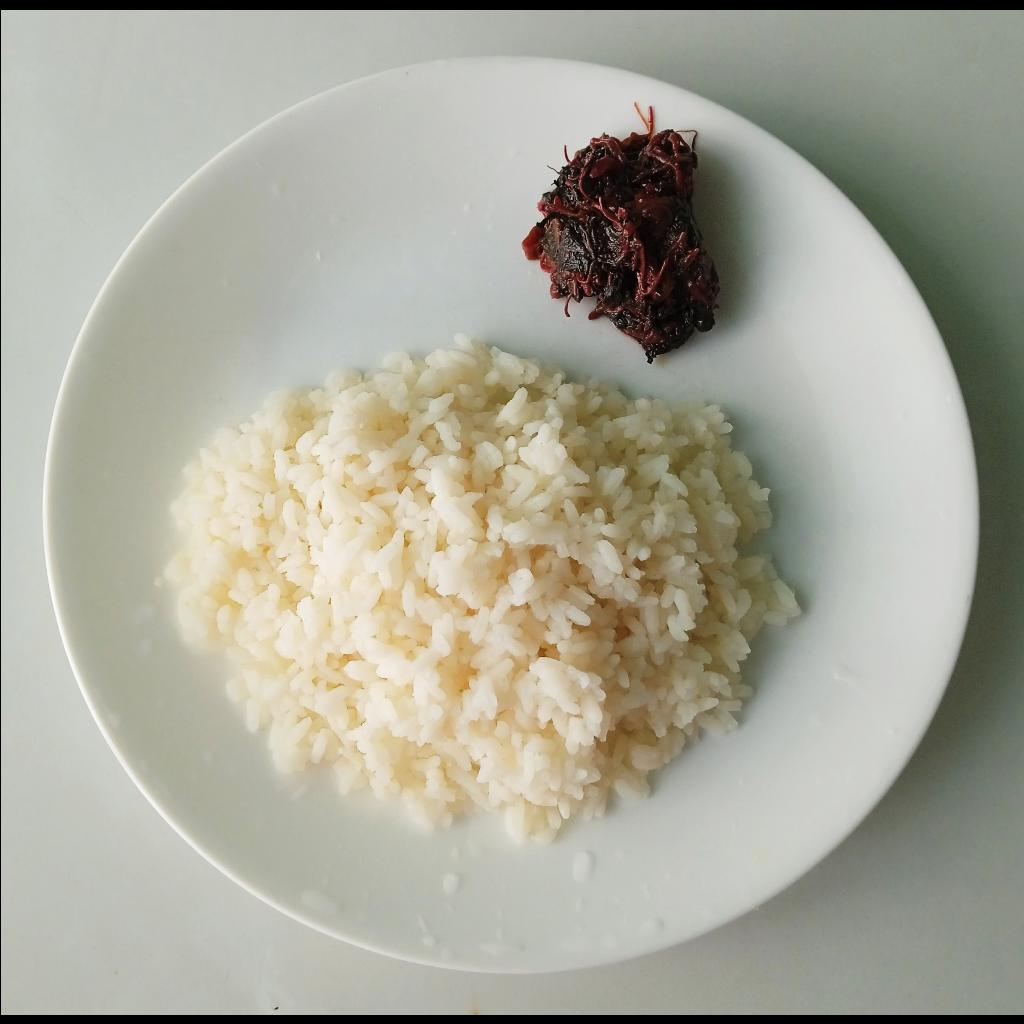lal-shak: (522, 126, 721, 370)
rice: (163, 330, 809, 840)
